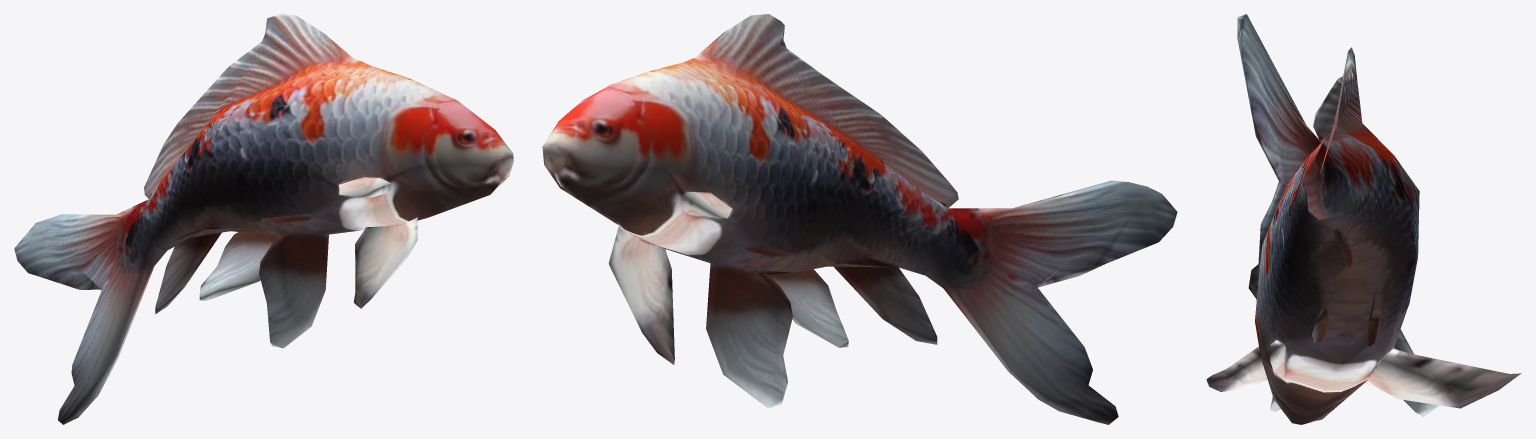
The model's file is koi.glb.
The picture shows the model from 3 angles, left to right: view 1: azimuth 30°, elevation 25°; view 2: azimuth 150°, elevation 25°; view 3: azimuth 270°, elevation 25°; orthographic projection. The views are drawn at different scales.
Visible parts, largest first — view 1: koifish_0; view 2: koifish_0; view 3: koifish_0.
Part boxes in pixels (bbox=[...]): koifish_0: bbox=[14, 14, 513, 424]; koifish_0: bbox=[542, 14, 1177, 424]; koifish_0: bbox=[1206, 14, 1521, 424].
Size of the model in its own units: 4.93 by 2.89 by 2.09.
Materials: 1 (1 with a texture image).
